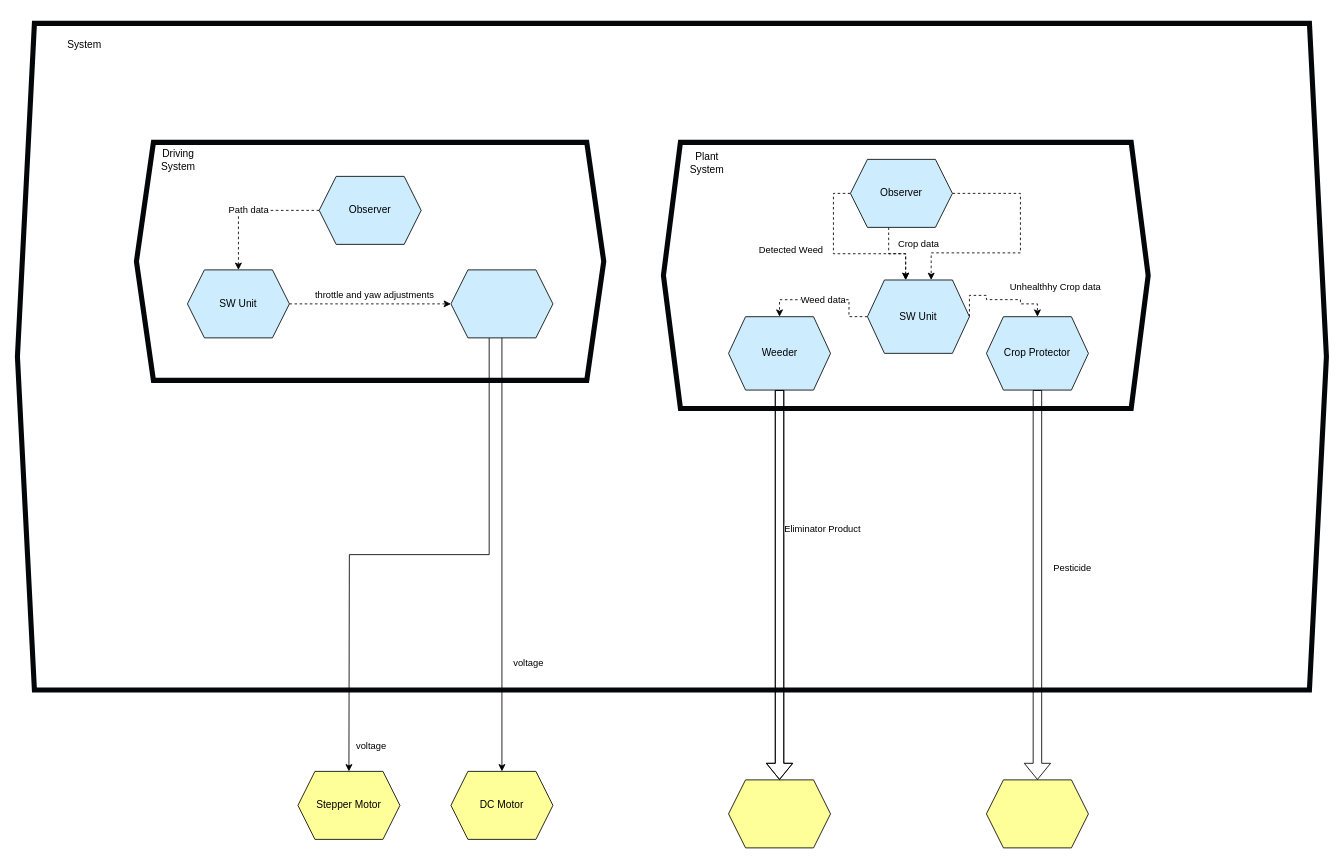
Image size: 1343x863. Some labels were removed from this diagram. The shapes that lost their labels are listed below. From the top down, each one's box as (x1, y1, x2, y2) in pixels, then its label:
(450, 269, 553, 338): Control Unit
(728, 779, 831, 848): Weed
(986, 779, 1088, 848): Plant
